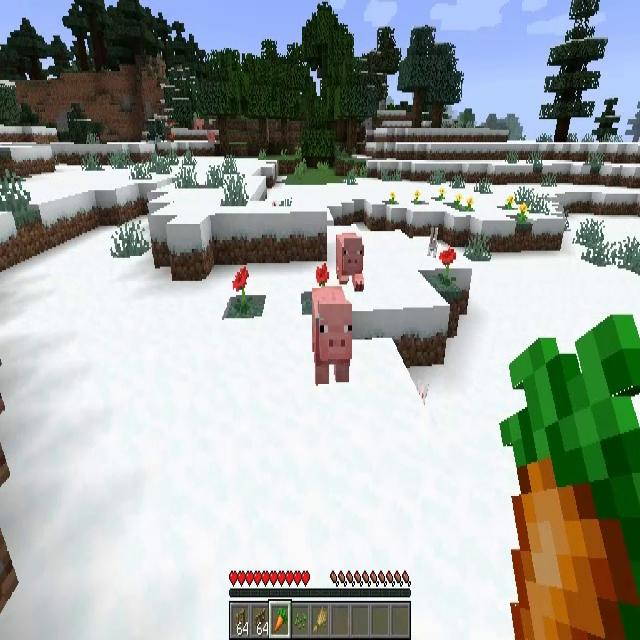pig: (311, 289, 352, 382), (335, 231, 363, 286)
